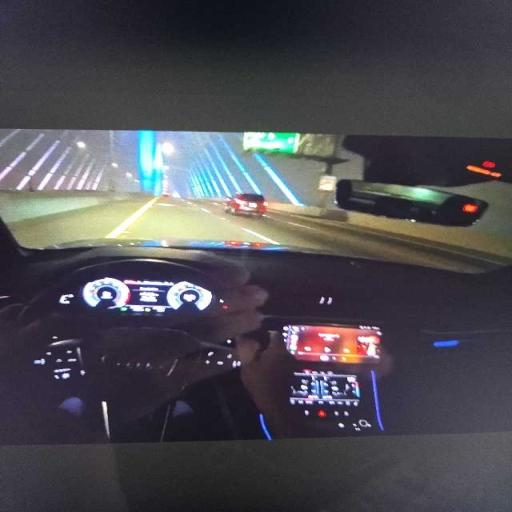car: (0, 160, 511, 509), (224, 193, 267, 216)
lane: (9, 197, 494, 271), (8, 199, 147, 247), (124, 200, 262, 244)
